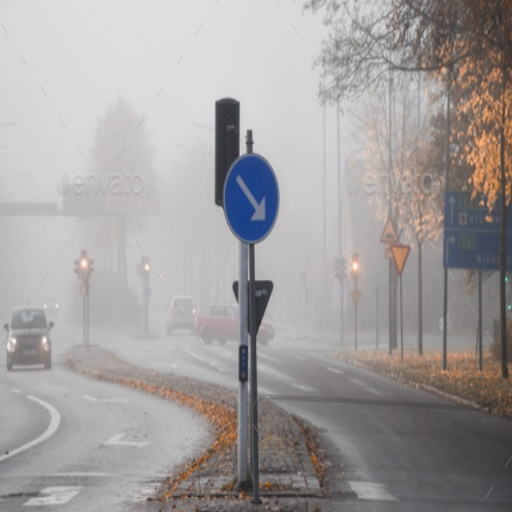Keep right: (219, 147, 280, 248)
